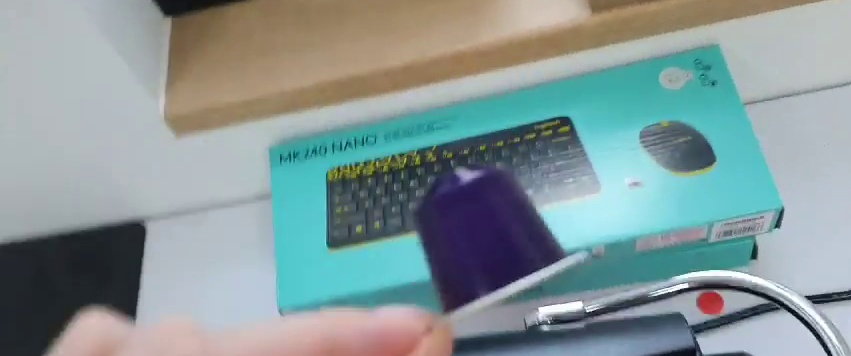capsule_11: (413, 166, 592, 319)
